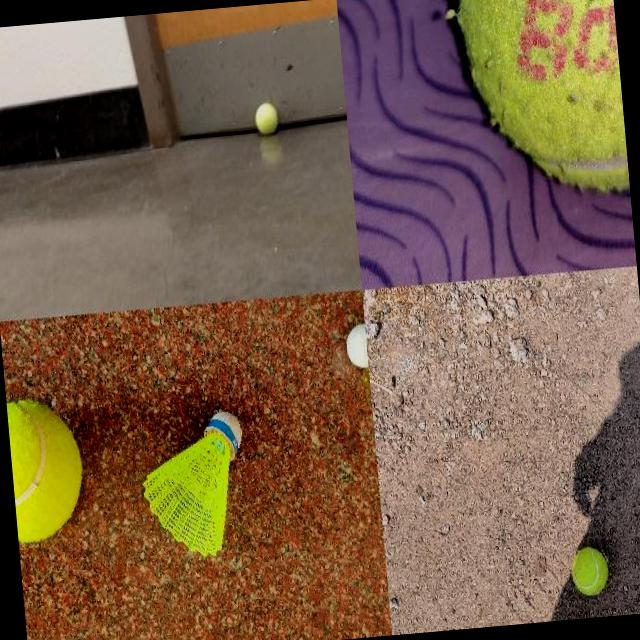tennis-ball: (455, 0, 629, 206), (6, 394, 89, 544), (569, 546, 609, 597), (253, 101, 280, 135)
